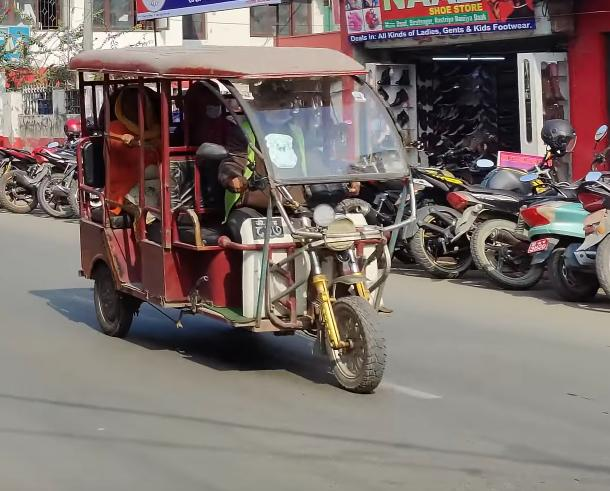e-rickshaw: (59, 36, 420, 391)
